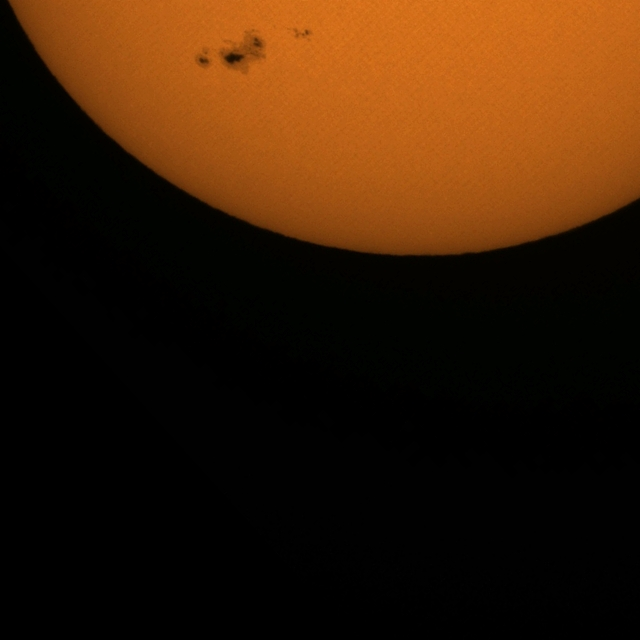sunspot: (214, 26, 268, 76), (192, 40, 253, 73), (286, 24, 312, 43)
